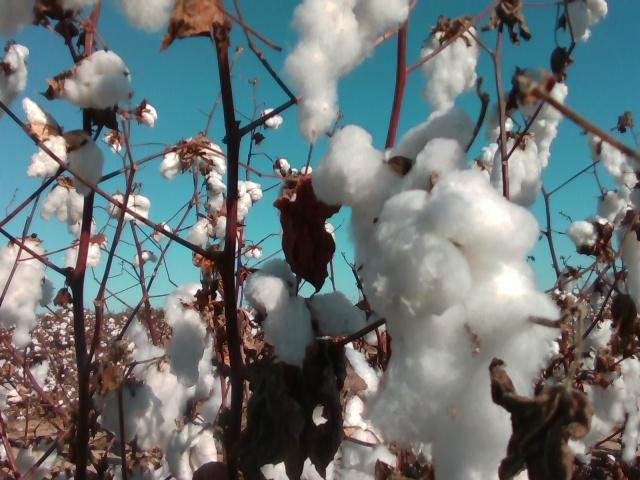cotton_ready: (363, 136, 559, 480), (319, 110, 472, 286), (266, 345, 397, 480), (284, 0, 408, 141), (248, 259, 367, 364), (565, 354, 640, 461), (104, 352, 186, 444), (22, 97, 106, 186), (164, 284, 225, 387), (0, 238, 47, 347), (421, 25, 479, 111), (523, 77, 568, 167), (190, 191, 253, 251), (491, 130, 541, 205), (63, 52, 132, 105), (344, 323, 391, 398), (196, 341, 236, 424), (166, 424, 218, 479), (589, 133, 640, 189), (159, 142, 228, 179), (0, 43, 30, 117), (560, 0, 610, 41), (620, 211, 640, 309), (116, 0, 172, 34), (40, 186, 86, 224), (567, 216, 614, 248), (206, 177, 262, 202), (0, 0, 36, 37), (113, 195, 150, 224)
